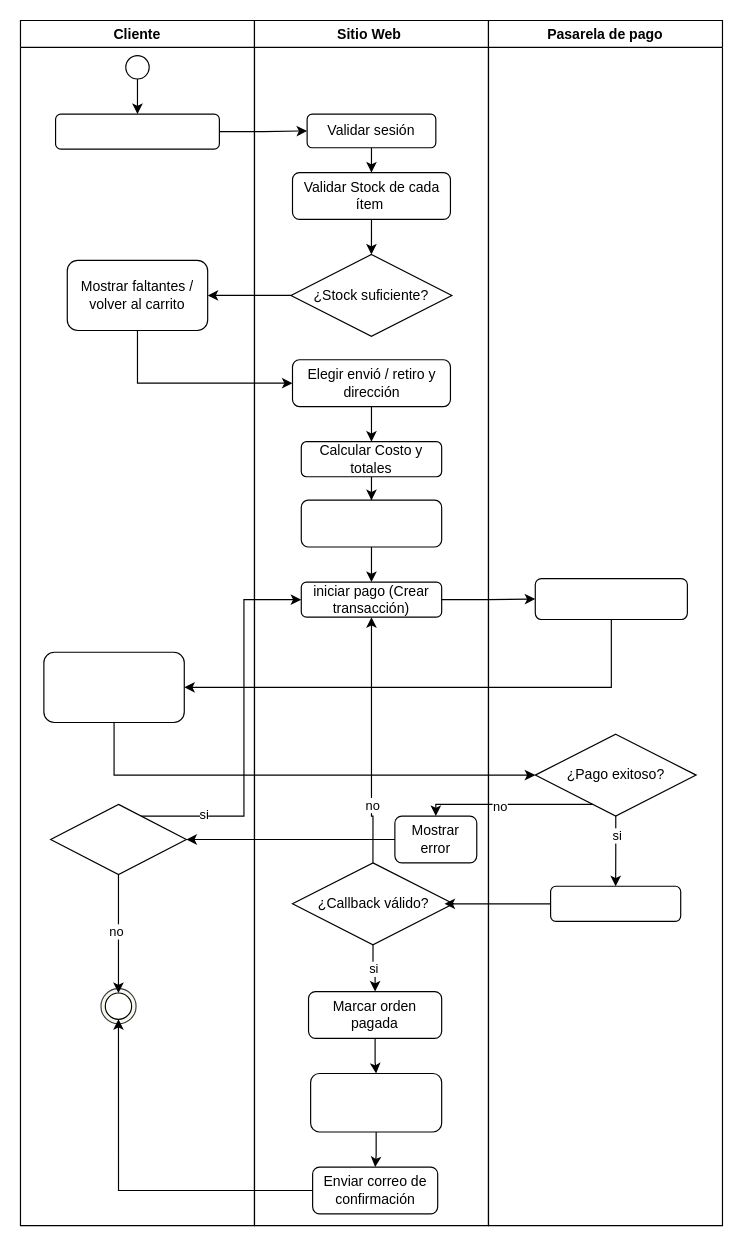
Some shapes in this 743 by 1246 pixel diagram are drawn without their labels. The shapes that lost their labels are listed below. From the top down, each one's centre as x and y in pixels, then its label:
At point (136, 131): "Ir a Checkout".
At point (371, 523): "Crear Orden= 'pendiente de pago '".
At point (610, 598): "Crear token/ transacción".
At point (113, 686): "Pagar con Webpay (tarjeta/cuota )".
At point (117, 839): "¿Reintentar?".
At point (615, 903): "Enviar confirmación".
At point (375, 1102): "Generar etiqueta / tracking (courier)".
